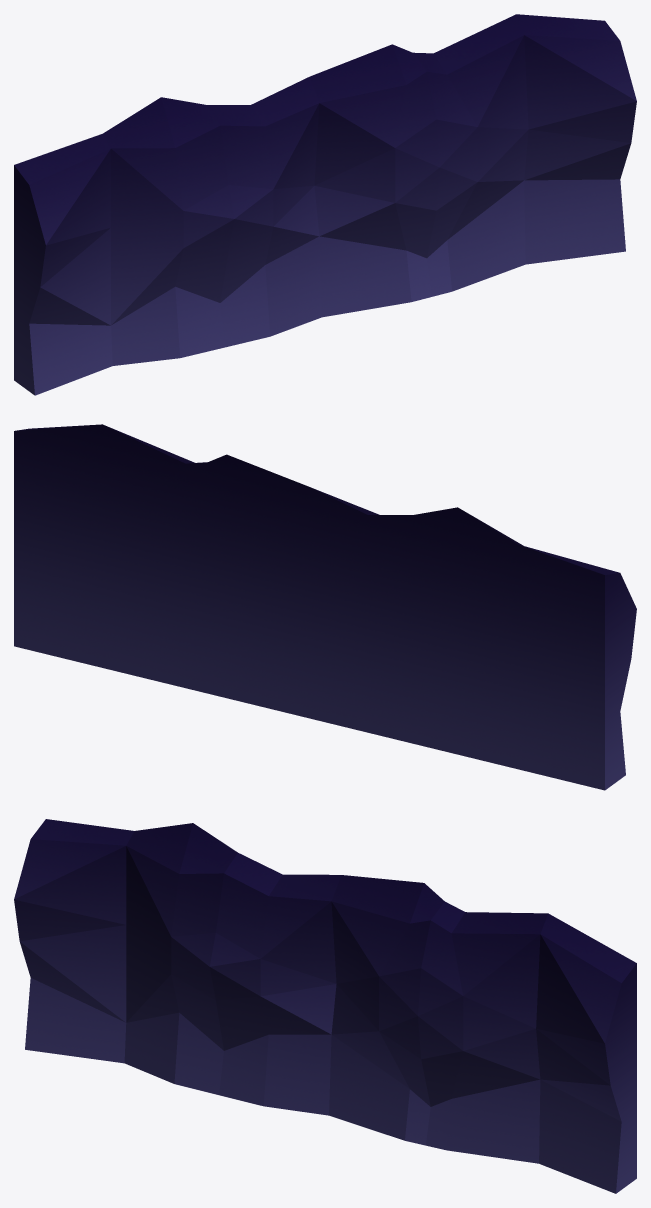
The model's file is Mod_Wall_Low.fbx.
The picture shows the model from 3 angles, top to bottom: view 1: azimuth 30°, elevation 25°; view 2: azimuth 150°, elevation 25°; view 3: azimuth 330°, elevation 25°; orthographic projection.
Visible parts, largest first — view 1: Mod_Wall_Low; view 2: Mod_Wall_Low; view 3: Mod_Wall_Low.
Boxes of the visible parts, x1,y1,x2,y2 form: Mod_Wall_Low: (14,14,636,395); Mod_Wall_Low: (14,424,636,790); Mod_Wall_Low: (14,819,636,1193).
Size of the model in its own units: 16.23 by 6.49 by 1.52.
Materials: 1 (1 with a texture image).
